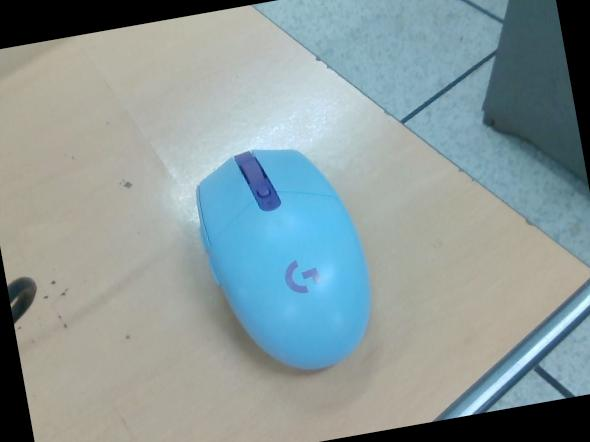mouse: (193, 149, 373, 374)
